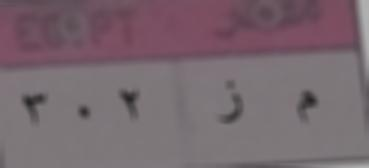0: (70, 91, 97, 132)
2: (103, 75, 154, 130)
3: (7, 82, 56, 130)
meem: (284, 81, 325, 134)
zay: (203, 67, 249, 138)
